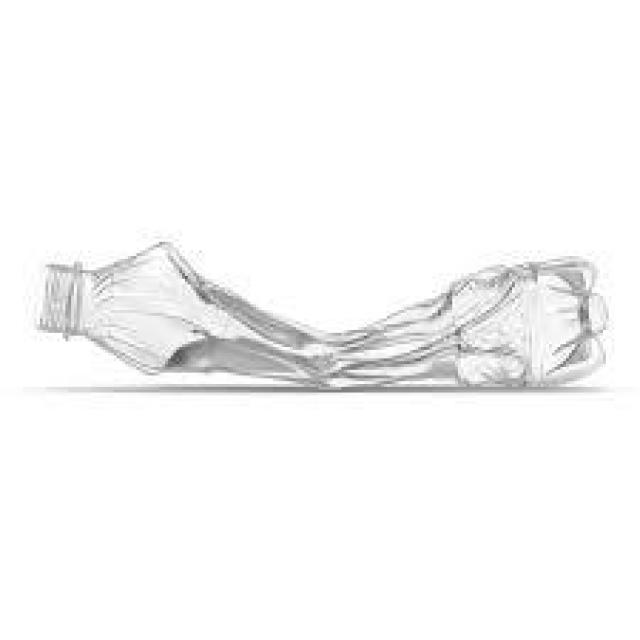bottle: (27, 220, 622, 420)
